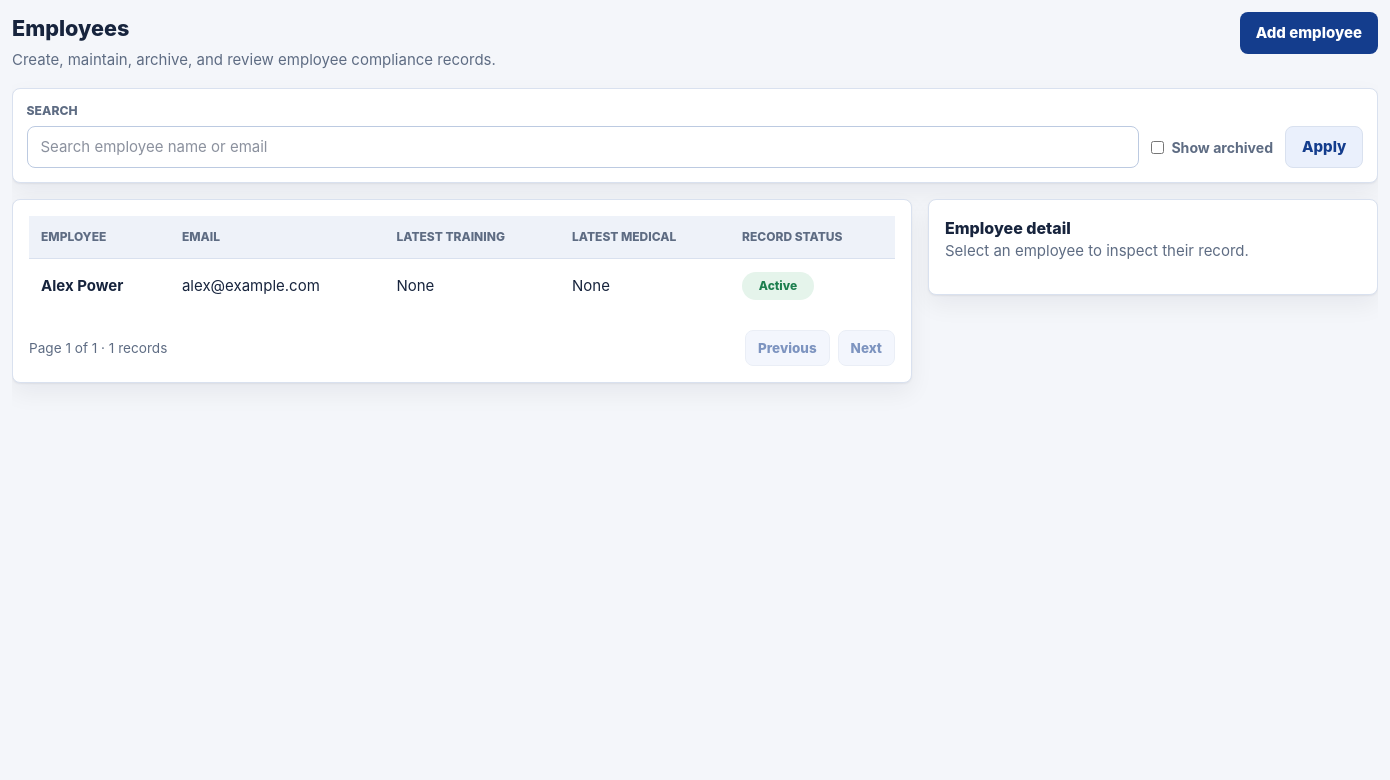
Test: ManageEmployees › marks expired completion history as overdue instead of active
This screenshot has width=1390, height=780.
Click the row "Alex Power alex@example.com None None Active" at (82, 286), box [29, 258, 895, 314]
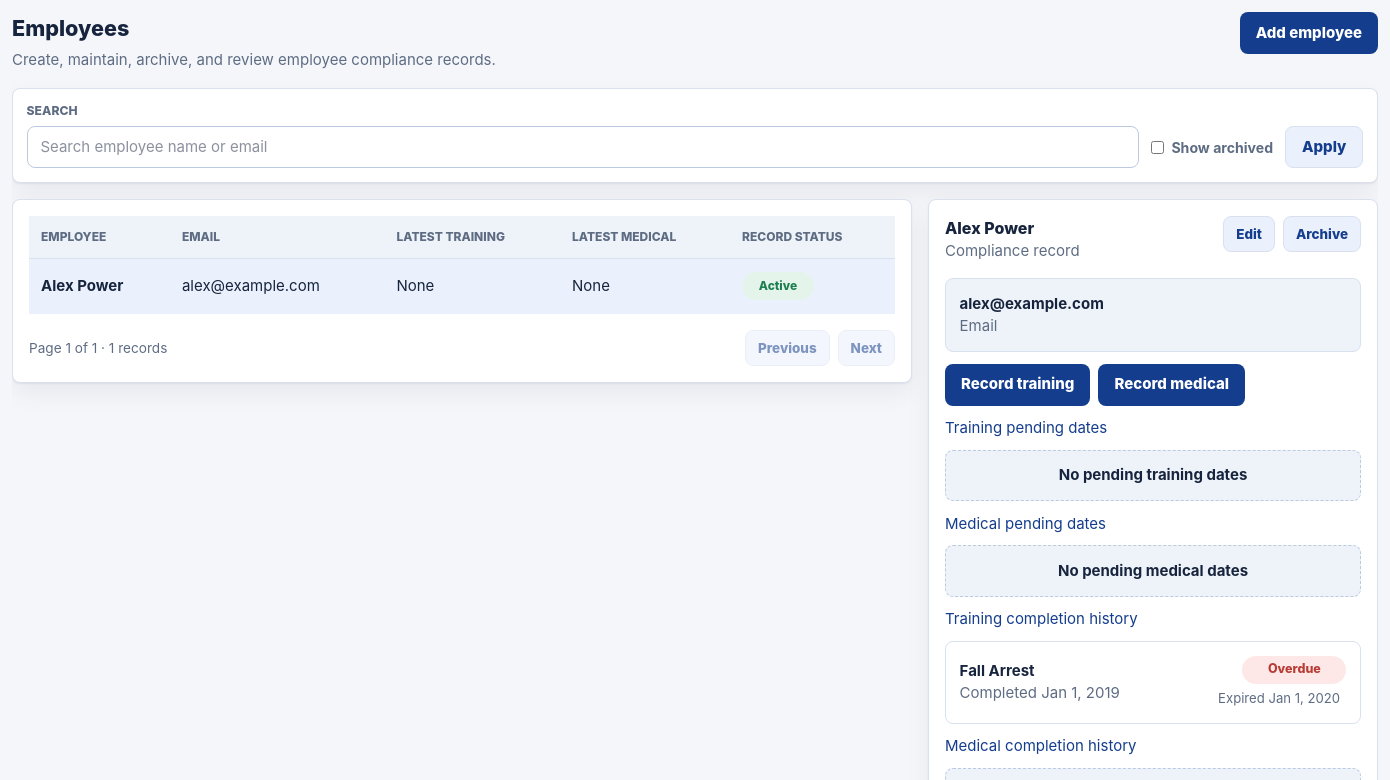
Expected: the element with class "requirement-row" shows "Fall Arrest", [960, 661, 1034, 680]
Expected: the element with class "requirement-row" shows "Overdue", [1268, 661, 1321, 676]
Expected: the element with class "requirement-row" shows "Expired", [1218, 690, 1340, 706]
